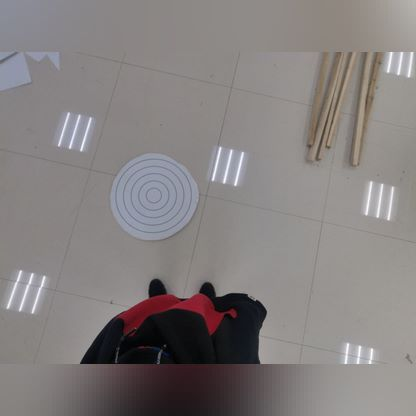circle: (101, 149, 197, 233)
